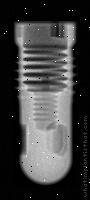Camlog: (10, 22, 77, 188)
